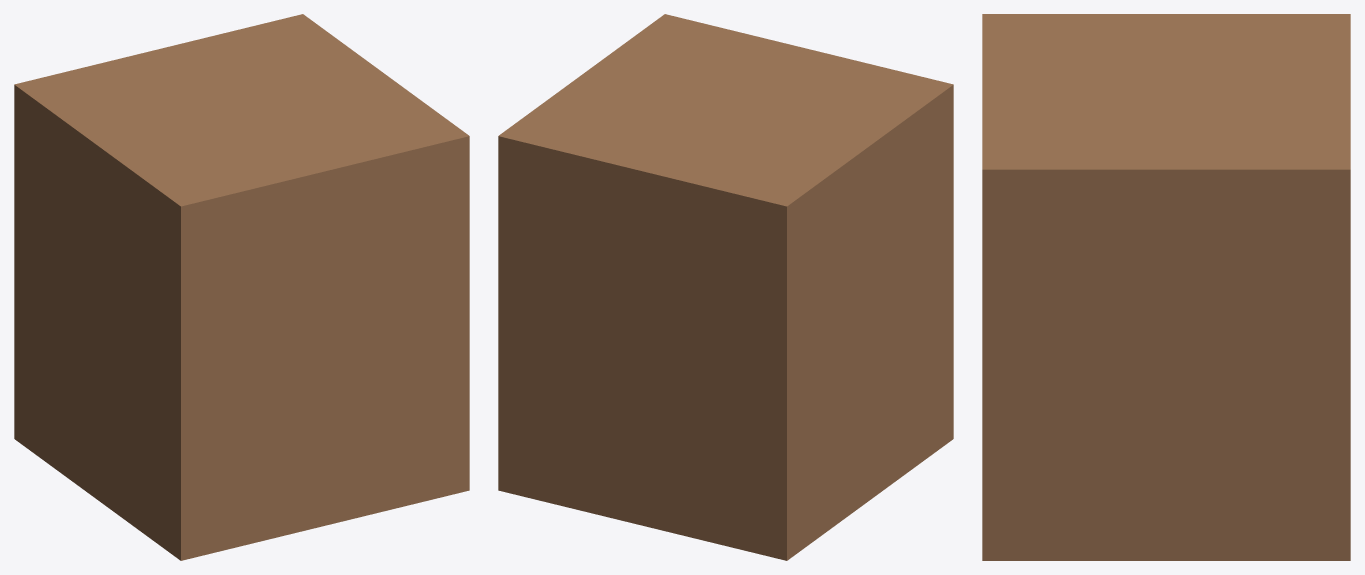
File: cacador_manga_sup.glb
The picture shows the model from 3 angles, left to right: view 1: azimuth 30°, elevation 25°; view 2: azimuth 150°, elevation 25°; view 3: azimuth 270°, elevation 25°; orthographic projection. The views are drawn at different scales.
Visible parts, largest first — view 1: cacador_manga_sup; view 2: cacador_manga_sup; view 3: cacador_manga_sup.
Boxes of the visible parts, x1=… form: cacador_manga_sup: x1=14, y1=14, x2=469, y2=560; cacador_manga_sup: x1=498, y1=14, x2=953, y2=560; cacador_manga_sup: x1=982, y1=14, x2=1350, y2=560.
Bounding box in the file's own units: 0.29 × 0.34 × 0.29.
